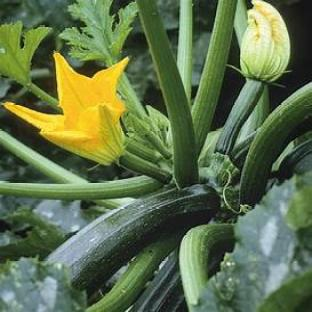Zucchini: (47, 186, 219, 290), (240, 84, 311, 204), (215, 80, 263, 154), (130, 251, 186, 311), (278, 140, 311, 180)
